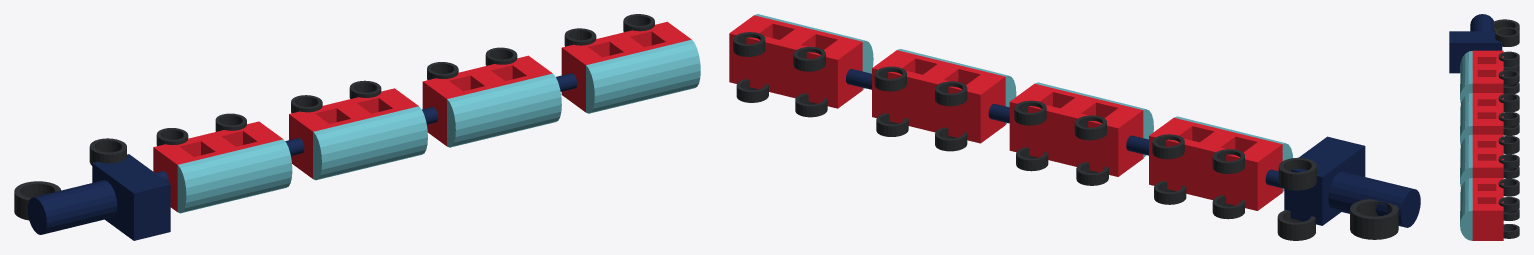
File: tinker.obj
3 renders of one model, left to right at view 1: azimuth 30°, elevation 25°; view 2: azimuth 150°, elevation 25°; view 3: azimuth 270°, elevation 25°, orthographic. The views are drawn at different scales.
Visible parts, largest first — view 1: group_0_7390674, group_0_15277357, group_0_1122895, group_0_2829873, group_0_1254480; view 2: group_0_15277357, group_0_2829873, group_0_1122895, group_0_7390674, group_0_1254480; view 3: group_0_15277357, group_0_2829873, group_0_7390674, group_0_1122895.
Boxes of the visible parts, bbox=[...] form: group_0_7390674: bbox=[177, 39, 700, 213]; group_0_15277357: bbox=[153, 21, 691, 211]; group_0_1122895: bbox=[27, 154, 170, 240]; group_0_2829873: bbox=[14, 14, 654, 220]; group_0_1254480: bbox=[155, 73, 577, 182]; group_0_15277357: bbox=[729, 15, 1282, 210]; group_0_2829873: bbox=[733, 32, 1398, 240]; group_0_1122895: bbox=[1284, 136, 1420, 227]; group_0_7390674: bbox=[754, 14, 1292, 191]; group_0_1254480: bbox=[846, 69, 1283, 188]; group_0_15277357: bbox=[1472, 50, 1503, 240]; group_0_2829873: bbox=[1493, 19, 1519, 238]; group_0_7390674: bbox=[1460, 51, 1472, 240]; group_0_1122895: bbox=[1449, 14, 1502, 73].
Size of the model in its own units: 387 by 37 by 57.
